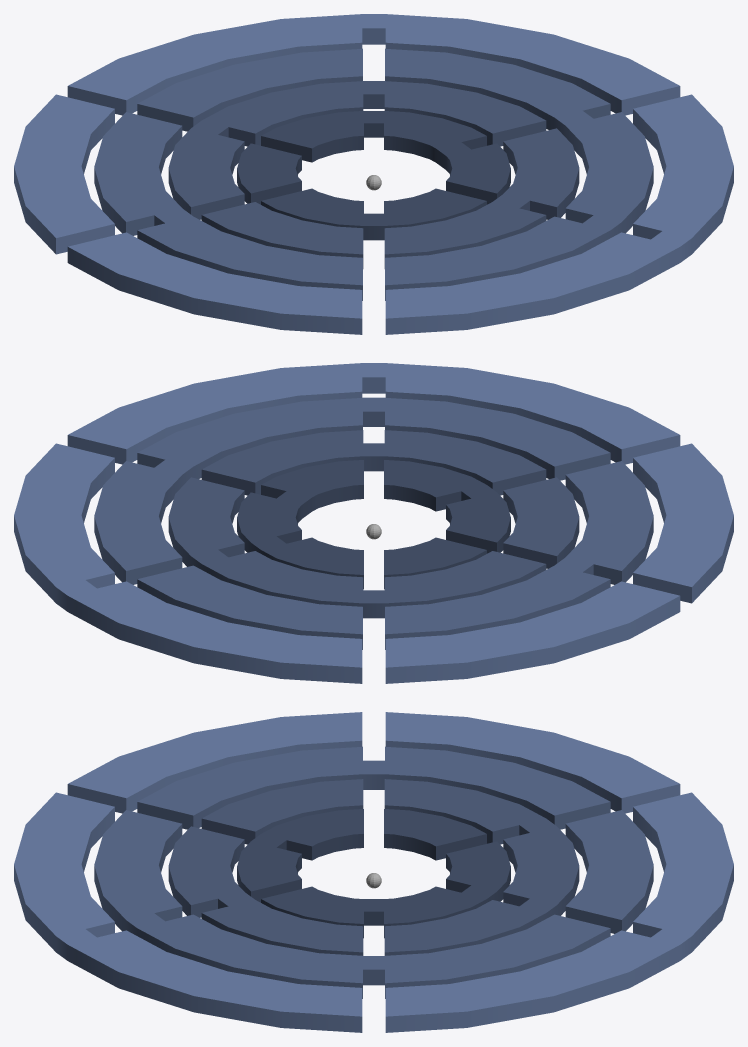
File: Lock_Picking_Assets.fbx
3 renders of one model, top to bottom at view 1: azimuth 30°, elevation 25°; view 2: azimuth 150°, elevation 25°; view 3: azimuth 270°, elevation 25°, orthographic.
Visible parts, largest first — view 1: Ring_04, Ring_03, Ring_02, Ring_01; view 2: Ring_04, Ring_03, Ring_02, Ring_01; view 3: Ring_04, Ring_03, Ring_02, Ring_01.
Part boxes in pixels (x1,y1,x2,y2): Ring_04: (14, 14, 733, 334); Ring_03: (94, 48, 653, 300); Ring_02: (168, 81, 579, 268); Ring_01: (237, 111, 510, 240); Ring_04: (14, 363, 733, 683); Ring_03: (94, 397, 653, 649); Ring_02: (168, 430, 579, 618); Ring_01: (237, 460, 510, 589); Ring_04: (14, 712, 733, 1032); Ring_03: (94, 746, 653, 998); Ring_02: (168, 779, 579, 955); Ring_01: (237, 809, 510, 938).
Size of the model in its own units: 920 by 33 by 919.
